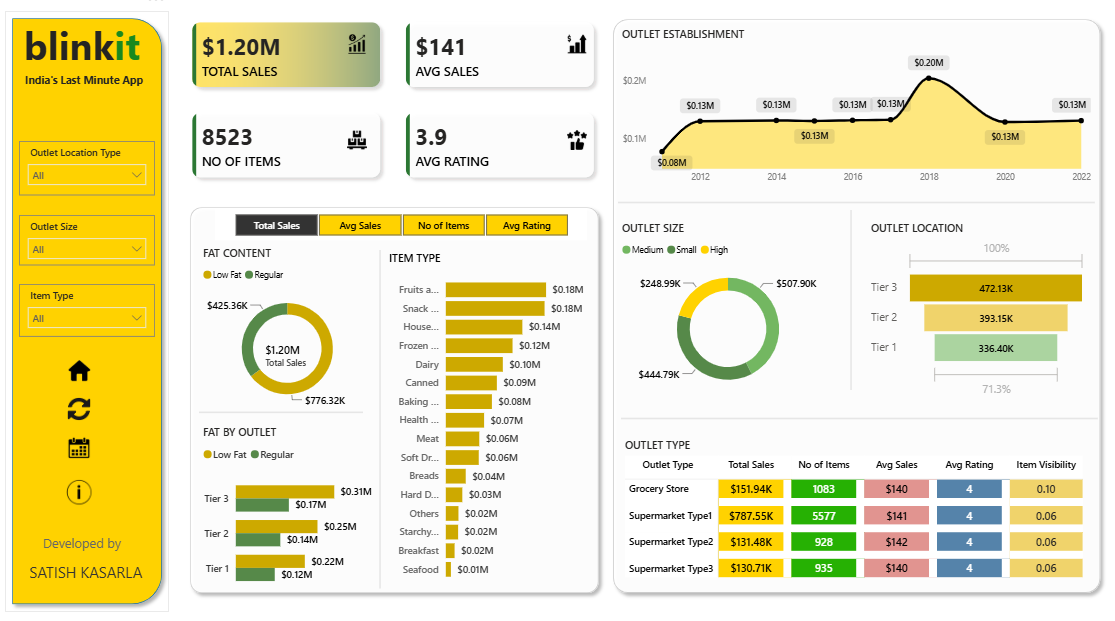

This screenshot's page, from the dashboard's own definition file:
{"tool":"powerbi","page":{"name":"BlinkIT Power BI Dashboard","canvas":[1400,800],"ordinal":0},"visuals":[{"type":"shape","box":[12.7,25.3,205.2,750.6],"z":0},{"type":"textbox","box":[32.3,97,161.6,26.7],"z":1000},{"type":"cardVisual","fields":{"Data":["BlinkIT Grocery Data.Total Sales","BlinkIT Grocery Data.Avg Sales","BlinkIT Grocery Data.No of Items","BlinkIT Grocery Data.Avg Rating"]},"box":[217.5,10,561.2,252.5],"z":2000},{"type":"image","box":[440,53.4,25.3,25.3],"z":3000},{"type":"image","box":[715.5,53.4,25.3,25.3],"z":4000},{"type":"image","box":[440,174.3,25.3,25.3],"z":5000},{"type":"image","box":[715.5,174.3,25.3,25.3],"z":6000},{"type":"shape","box":[234.7,261.4,528.5,500.4],"z":7000},{"type":"donutChart","title":"FAT CONTENT","fields":{"Y":["BlinkIT Grocery Data.Total Sales"],"Category":["BlinkIT Grocery Data.Item Fat Content"]},"box":[254.4,319.1,220.7,212.2],"z":8000},{"type":"slicer","fields":{"Values":["Metrics.Metrics"]},"box":[275,272.5,465,38.8],"z":9000},{"type":"cardVisual","fields":{"Data":["BlinkIT Grocery Data.Total Sales"]},"box":[309.2,411.8,112.4,87.1],"z":10000},{"type":"clusteredBarChart","title":"FAT BY OUTLET","fields":{"Y":["BlinkIT Grocery Data.Total Sales"],"Category":["BlinkIT Grocery Data.Outlet Location Type"],"Series":["BlinkIT Grocery Data.Item Fat Content"]},"box":[254.4,542.6,220.7,219.3],"z":11000},{"type":"shape","box":[254.4,522.9,205.2,8.4],"z":12000},{"type":"shape","box":[475.1,323.3,12.7,423.1],"z":13000},{"type":"barChart","title":"ITEM TYPE","fields":{"Y":["BlinkIT Grocery Data.Total Sales"],"Category":["BlinkIT Grocery Data.Item Type"]},"box":[487.8,324.7,253,421.7],"z":14000},{"type":"shape","box":[763.3,26.7,626.9,735.1],"z":15000},{"type":"lineChart","title":"OUTLET ESTABLISHMENT","fields":{"Category":["BlinkIT Grocery Data.Outlet Establishment Year"],"Y":["BlinkIT Grocery Data.Total Sales"]},"box":[778.7,45,596,205.2],"z":16000},{"type":"shape","box":[778.8,262.5,596.2,3.8],"z":17000},{"type":"donutChart","title":"OUTLET SIZE","fields":{"Y":["BlinkIT Grocery Data.Total Sales"],"Category":["BlinkIT Grocery Data.Outlet Size"]},"box":[778.8,287.5,275,225],"z":18000},{"type":"shape","box":[1064.1,274.1,12.7,224.9],"z":19000},{"type":"funnel","title":"OUTLET LOCATION","fields":{"Y":["Sum(BlinkIT Grocery Data.Sales)"],"Category":["BlinkIT Grocery Data.Outlet Location Type"]},"box":[1090,287.5,278.8,225],"z":20000},{"type":"shape","box":[782.5,532.5,596.2,3.8],"z":21000},{"type":"pivotTable","title":"OUTLET TYPE","fields":{"Values":["BlinkIT Grocery Data.Total Sales","BlinkIT Grocery Data.No of Items","BlinkIT Grocery Data.Avg Sales","BlinkIT Grocery Data.Avg Rating","Avg(BlinkIT Grocery Data.Item Visibility)"],"Rows":["BlinkIT Grocery Data.Outlet Type"]},"box":[782.5,558.8,586.2,186.2],"z":22000},{"type":"slicer","fields":{"Values":["BlinkIT Grocery Data.Outlet Location Type"]},"box":[30,187.5,170,67.5],"z":23000},{"type":"slicer","fields":{"Values":["BlinkIT Grocery Data.Outlet Size"]},"box":[30,280,170,62.5],"z":24000},{"type":"slicer","fields":{"Values":["BlinkIT Grocery Data.Item Type"]},"box":[30,366.2,170,66.2],"z":25000},{"type":"textbox","box":[28.8,708.8,170,36.2],"z":26000},{"type":"textbox","box":[46.2,673.8,125,36.2],"z":27000},{"type":"image","box":[80,448.8,50,50],"z":28000},{"type":"image","box":[72.5,495,65,55],"z":29000},{"type":"image","box":[82.5,550,45,41.2],"z":30000},{"type":"image","box":[83.8,610,42.5,32.5],"z":31000},{"type":"textbox","box":[21.2,28.8,175,73.8],"z":32000}]}

Visuals, with their boxes in screenshot pixels (x1, y1, x2, y2), scaled from the page's 1400x800 canvas onto the 1115x621 screenshot:
shape: region(10, 20, 174, 602)
textbox: region(26, 75, 154, 96)
cardVisual - BlinkIT Grocery Data.Total Sales x BlinkIT Grocery Data.Avg Sales: region(173, 8, 620, 204)
image: region(350, 41, 371, 61)
image: region(570, 41, 590, 61)
image: region(350, 135, 371, 155)
image: region(570, 135, 590, 155)
shape: region(187, 203, 608, 591)
"FAT CONTENT" donutChart: region(203, 248, 378, 412)
slicer - Metrics.Metrics: region(219, 212, 589, 242)
cardVisual - BlinkIT Grocery Data.Total Sales: region(246, 320, 336, 387)
"FAT BY OUTLET" clusteredBarChart: region(203, 421, 378, 591)
shape: region(203, 406, 366, 412)
shape: region(378, 251, 388, 579)
"ITEM TYPE" barChart: region(388, 252, 590, 579)
shape: region(608, 21, 1107, 591)
"OUTLET ESTABLISHMENT" lineChart: region(620, 35, 1095, 194)
shape: region(620, 204, 1095, 207)
"OUTLET SIZE" donutChart: region(620, 223, 839, 398)
shape: region(847, 213, 858, 387)
"OUTLET LOCATION" funnel: region(868, 223, 1090, 398)
shape: region(623, 413, 1098, 416)
"OUTLET TYPE" pivotTable: region(623, 434, 1090, 578)
slicer - BlinkIT Grocery Data.Outlet Location Type: region(24, 146, 159, 198)
slicer - BlinkIT Grocery Data.Outlet Size: region(24, 217, 159, 266)
slicer - BlinkIT Grocery Data.Item Type: region(24, 284, 159, 336)
textbox: region(23, 550, 158, 578)
textbox: region(37, 523, 136, 551)
image: region(64, 348, 104, 387)
image: region(58, 384, 110, 427)
image: region(66, 427, 102, 459)
image: region(67, 474, 101, 499)
textbox: region(17, 22, 156, 80)
